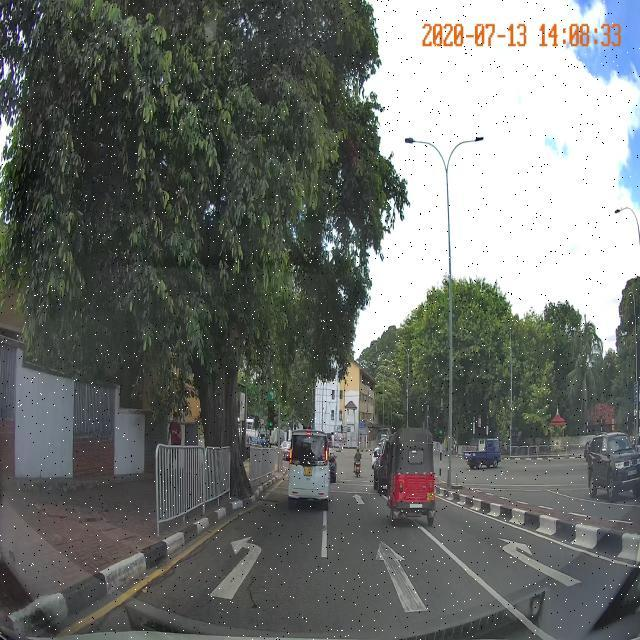forward: (318, 540, 512, 616)
